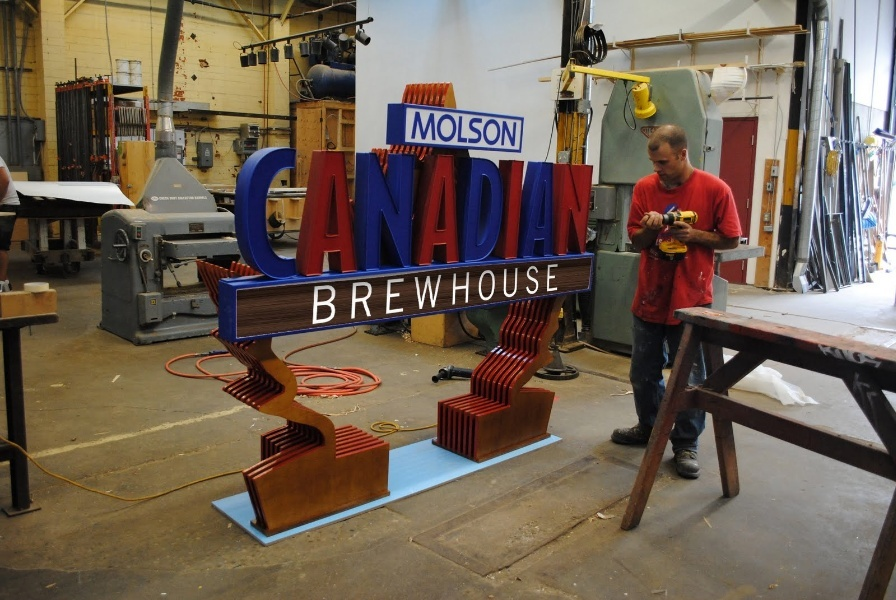text: (241, 144, 256, 283), (257, 144, 272, 283), (273, 144, 288, 283), (289, 144, 304, 283), (305, 144, 320, 283), (321, 144, 336, 283), (337, 144, 352, 283), (353, 144, 368, 283), (369, 144, 384, 283), (385, 144, 400, 283), (401, 144, 416, 283), (417, 144, 432, 283), (433, 144, 448, 283), (449, 144, 464, 283), (465, 144, 480, 283), (481, 144, 496, 283), (497, 144, 512, 283), (513, 144, 528, 283), (529, 144, 544, 283), (545, 144, 560, 283), (561, 144, 576, 283), (577, 144, 592, 283), (321, 264, 336, 325), (337, 264, 352, 325), (353, 264, 368, 325), (369, 264, 384, 325), (385, 264, 400, 325), (401, 264, 416, 325), (417, 264, 432, 325), (433, 264, 448, 325), (449, 264, 464, 325), (465, 264, 480, 325), (481, 264, 496, 325), (497, 264, 512, 325), (513, 264, 528, 325), (529, 264, 544, 325), (545, 264, 560, 325), (235, 144, 240, 283), (417, 111, 432, 147), (433, 111, 448, 147), (449, 111, 464, 147), (465, 111, 480, 147), (481, 111, 496, 147), (497, 111, 512, 147), (314, 264, 320, 325), (593, 144, 595, 283), (513, 111, 517, 147), (161, 196, 176, 201), (177, 196, 192, 201), (193, 196, 208, 201), (414, 111, 416, 147), (158, 196, 160, 201)
